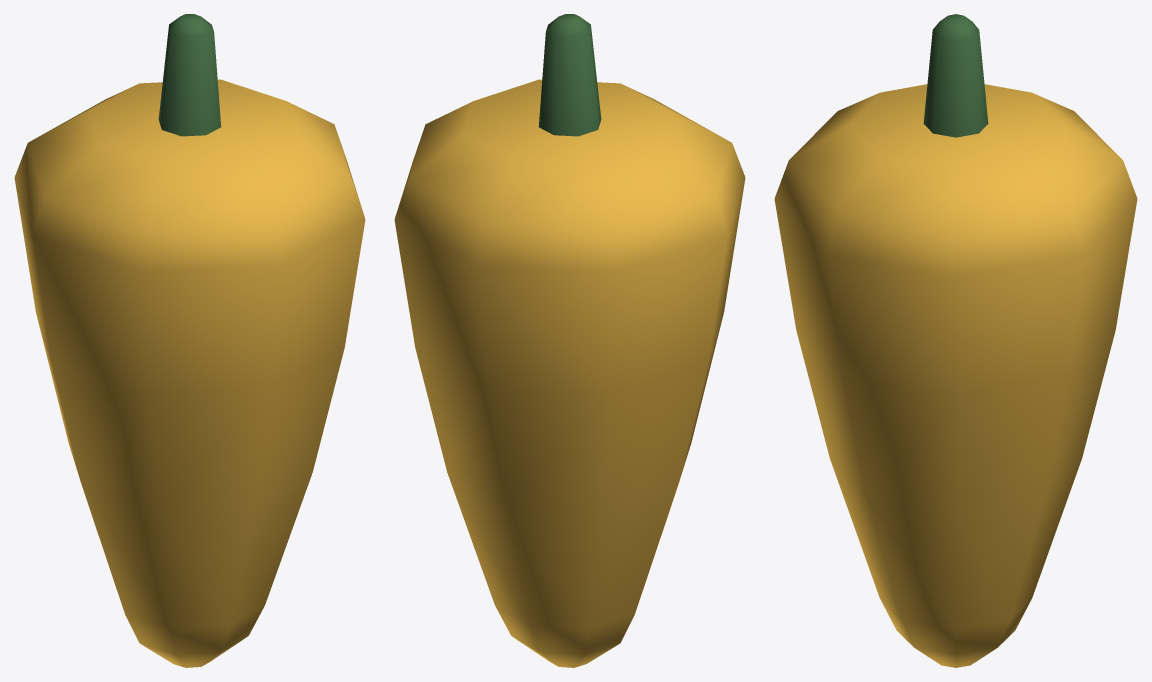
The model's file is Pepper_01_Yellow.fbx.
The picture shows the model from 3 angles, left to right: view 1: azimuth 30°, elevation 25°; view 2: azimuth 150°, elevation 25°; view 3: azimuth 270°, elevation 25°; orthographic projection.
Parts seen in each view (by area): view 1: Pepper_01_Yellow; view 2: Pepper_01_Yellow; view 3: Pepper_01_Yellow.
Part boxes in pixels (bbox=[...]): Pepper_01_Yellow: bbox=[14, 14, 365, 667]; Pepper_01_Yellow: bbox=[394, 14, 745, 667]; Pepper_01_Yellow: bbox=[774, 14, 1137, 667].
Size of the model in its own units: 0.181 by 0.353 by 0.1811.
